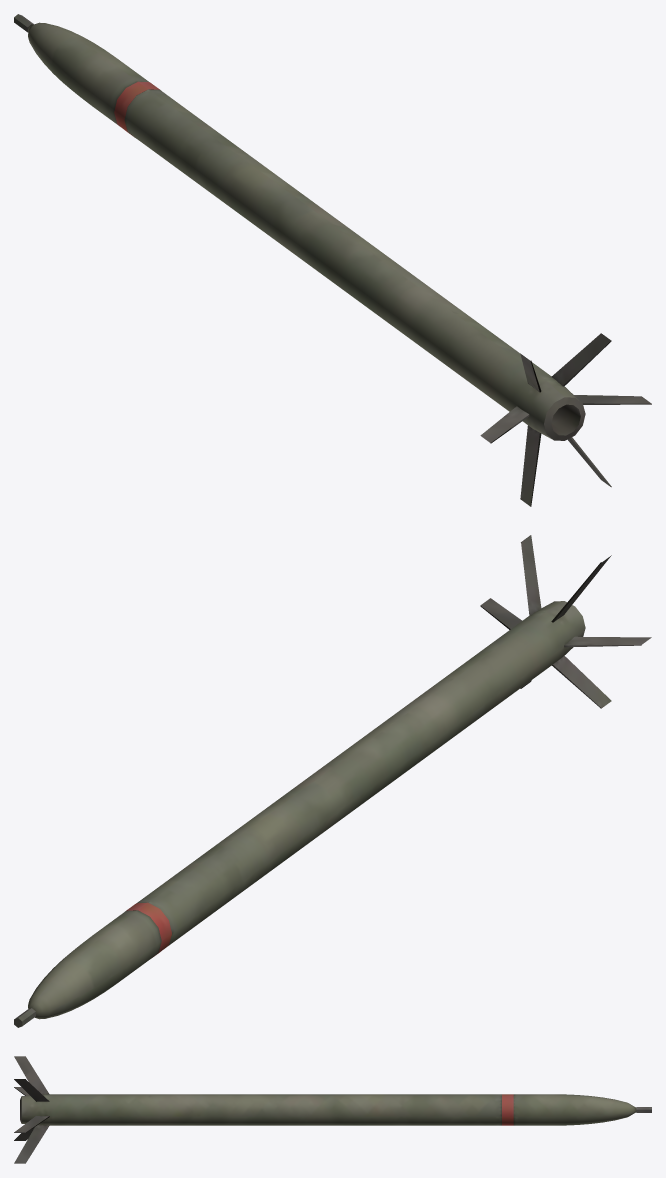
File: rocket.glb
3 renders of one model, top to bottom at view 1: azimuth 30°, elevation 25°; view 2: azimuth 150°, elevation 25°; view 3: azimuth 270°, elevation 25°, orthographic. The views are drawn at different scales.
Visible parts, largest first — view 1: body; view 2: body; view 3: body.
Part boxes in pixels (x1,y1,x2,y2): body: (14, 14, 651, 506); body: (14, 535, 651, 1027); body: (14, 1056, 651, 1163).
Bounding box in the file's own units: 0.2721 × 0.2362 × 1.62.
1 material, 1 textured.
